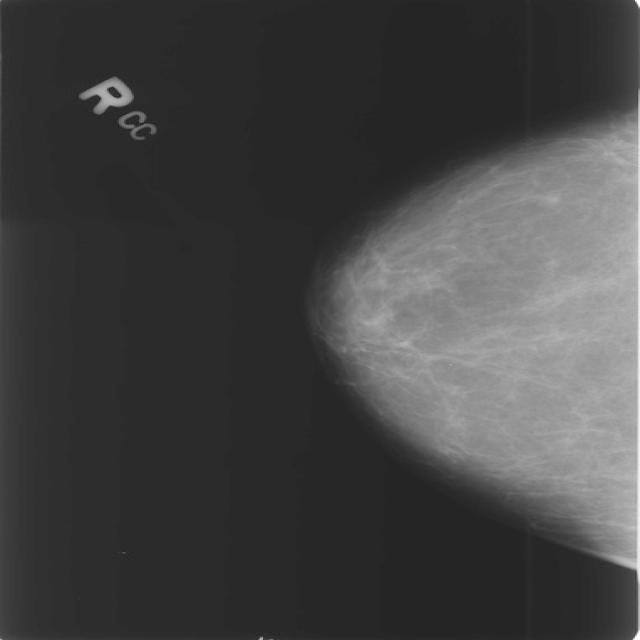tumour: (536, 190, 563, 206)
